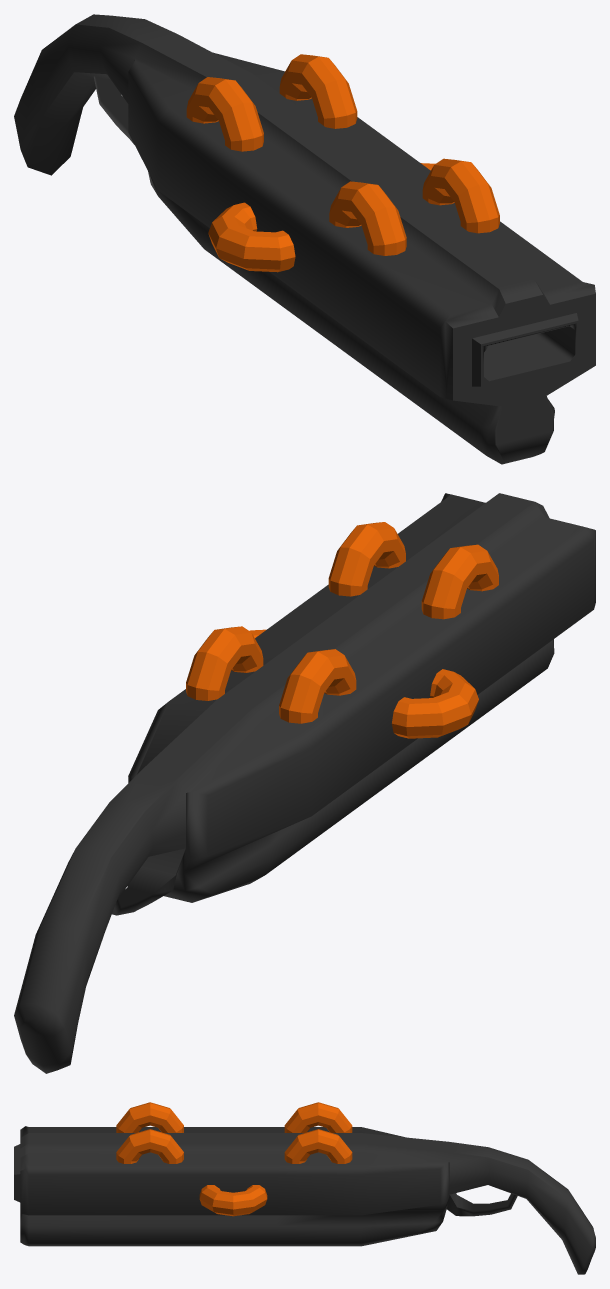
File: Shotty.fbx
The picture shows the model from 3 angles, top to bottom: view 1: azimuth 30°, elevation 25°; view 2: azimuth 150°, elevation 25°; view 3: azimuth 270°, elevation 25°; orthographic projection. The views are drawn at different scales.
Parts seen in each view (by area): view 1: Shotty, pTorus5, pTorus9, pTorus7, pTorus6, pTorus8; view 2: Shotty, pTorus5, pTorus9, pTorus7, pTorus8, pTorus6; view 3: Shotty, pTorus6, pTorus8, pTorus4, pTorus7, pTorus9.
Boxes of the visible parts, box(x1,y1,x2,y2) form: Shotty: box(14, 14, 595, 464); pTorus5: box(208, 202, 295, 272); pTorus9: box(329, 181, 406, 255); pTorus7: box(186, 77, 263, 151); pTorus6: box(279, 54, 357, 128); pTorus8: box(422, 158, 499, 233); Shotty: box(14, 493, 595, 1073); pTorus5: box(392, 669, 478, 738); pTorus9: box(421, 544, 498, 619); pTorus7: box(279, 649, 356, 723); pTorus8: box(328, 522, 405, 596); pTorus6: box(186, 626, 263, 700); Shotty: box(14, 1126, 595, 1274); pTorus6: box(284, 1129, 352, 1163); pTorus8: box(116, 1129, 183, 1163); pTorus4: box(199, 1185, 267, 1216); pTorus7: box(284, 1102, 352, 1132); pTorus9: box(116, 1102, 183, 1132).
Bounding box in the file's own units: 0.4161 × 0.42 × 1.4.
